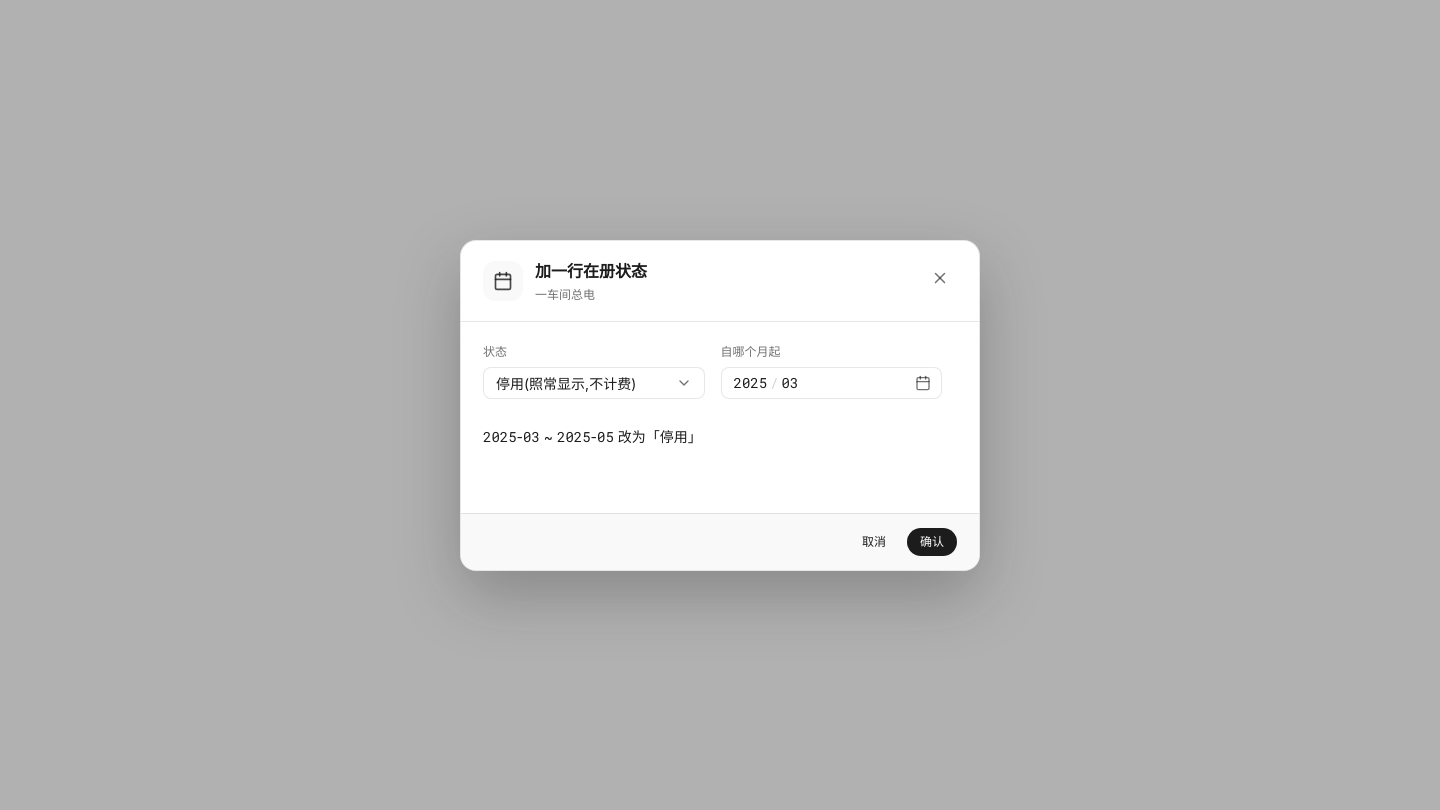
在册状态弹框 › 保存途中不许取消 / 关闭(关了弹框卸载,写完了屏上也不刷新)
This screenshot has width=1440, height=810.
Click the button "确认": click(932, 542) [907,528,957,556]
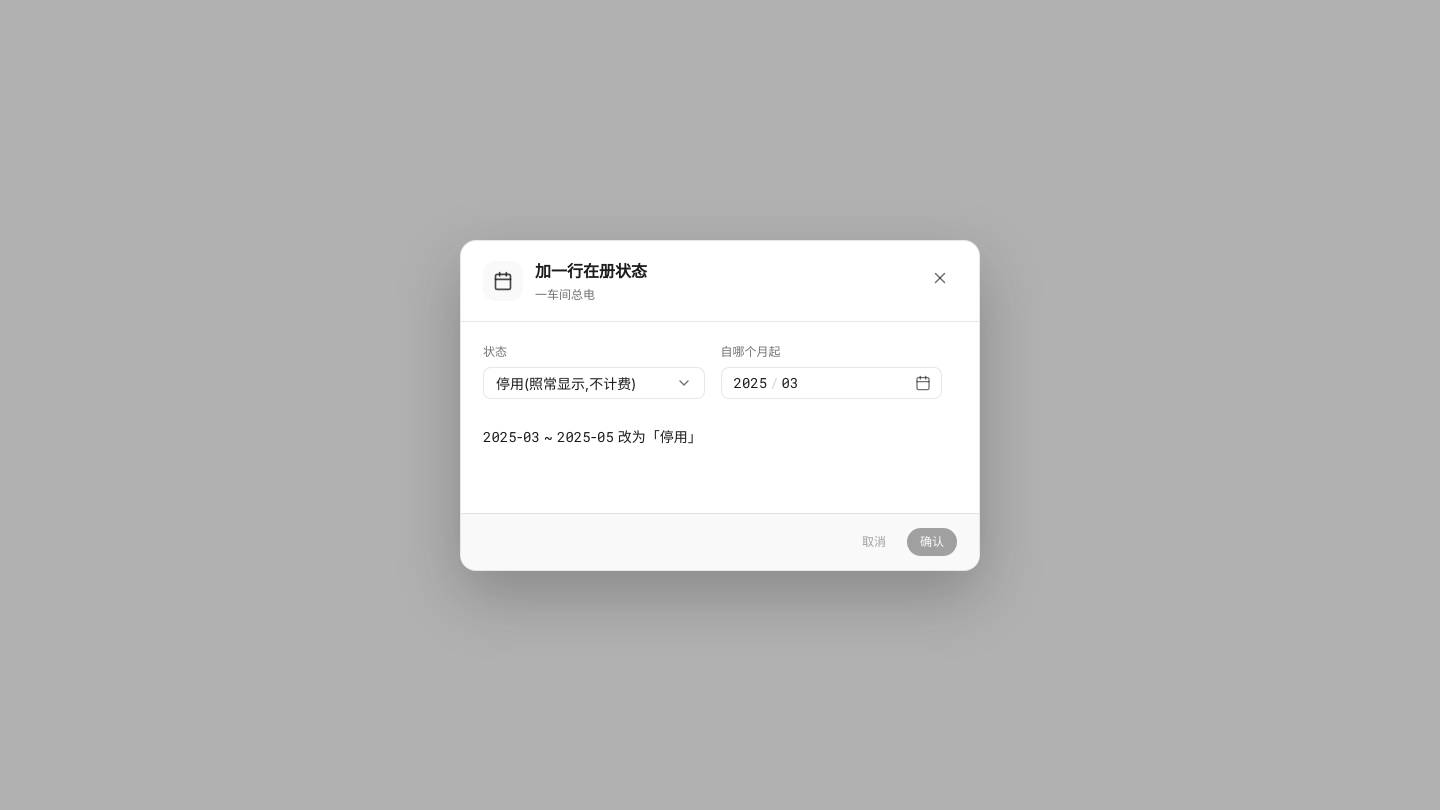
Expected: the button "取消" is disabled, [849,528,899,556]
